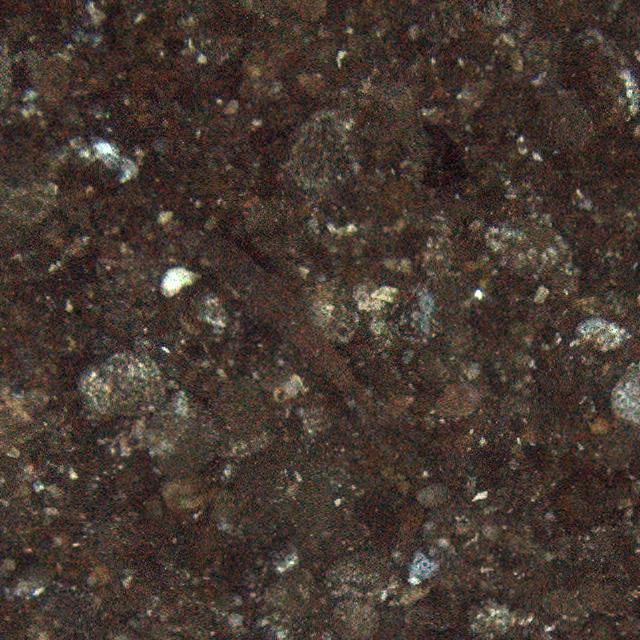roundfish: (192, 234, 394, 439)
